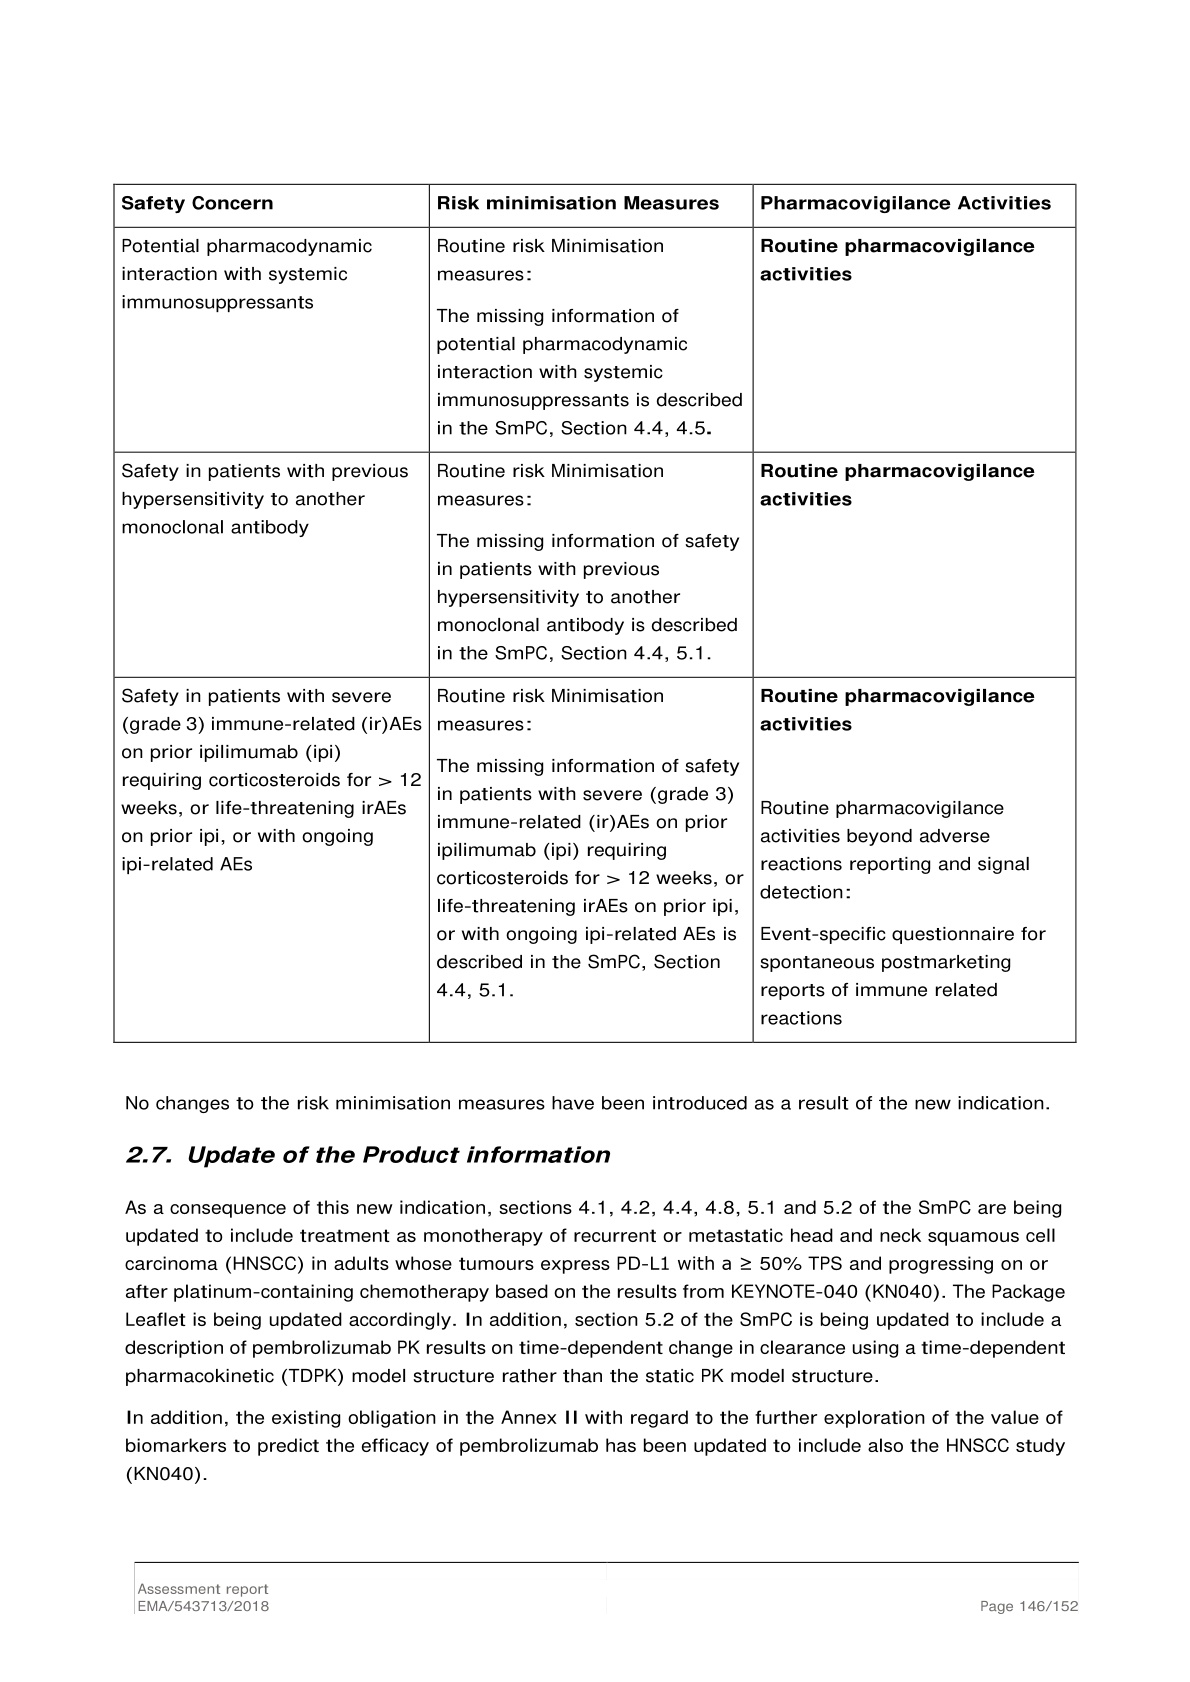full_lined: (112, 182, 1077, 1044)
